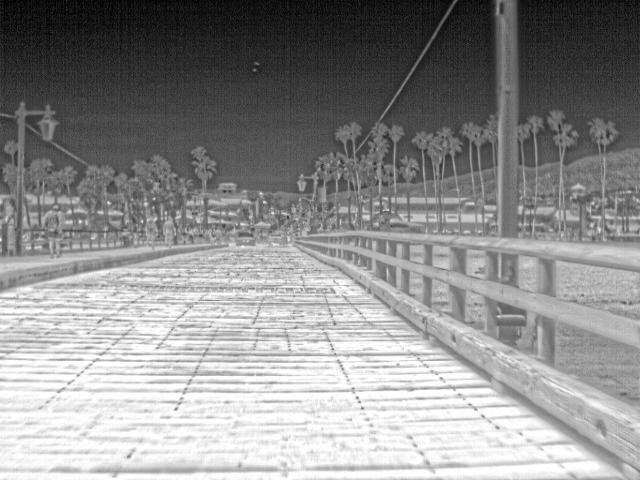car: (264, 226, 287, 246), (235, 230, 256, 244)
person: (42, 204, 66, 260), (158, 208, 177, 251), (143, 212, 161, 251)
